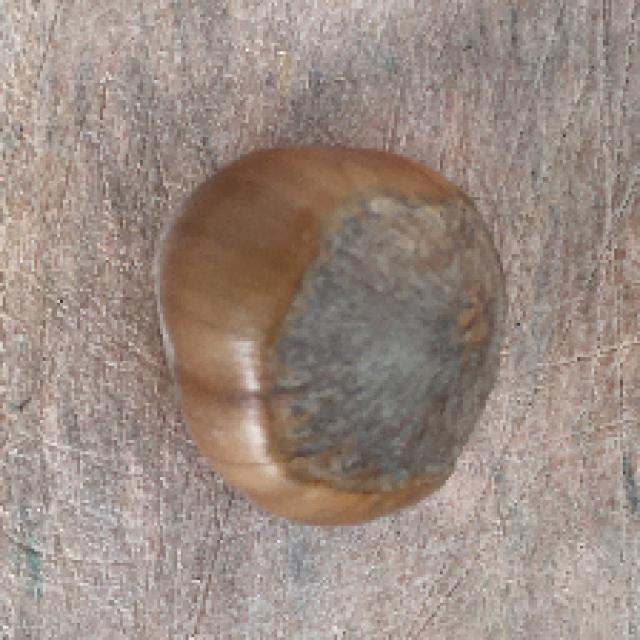qualityHazelnut: (154, 141, 509, 522)
